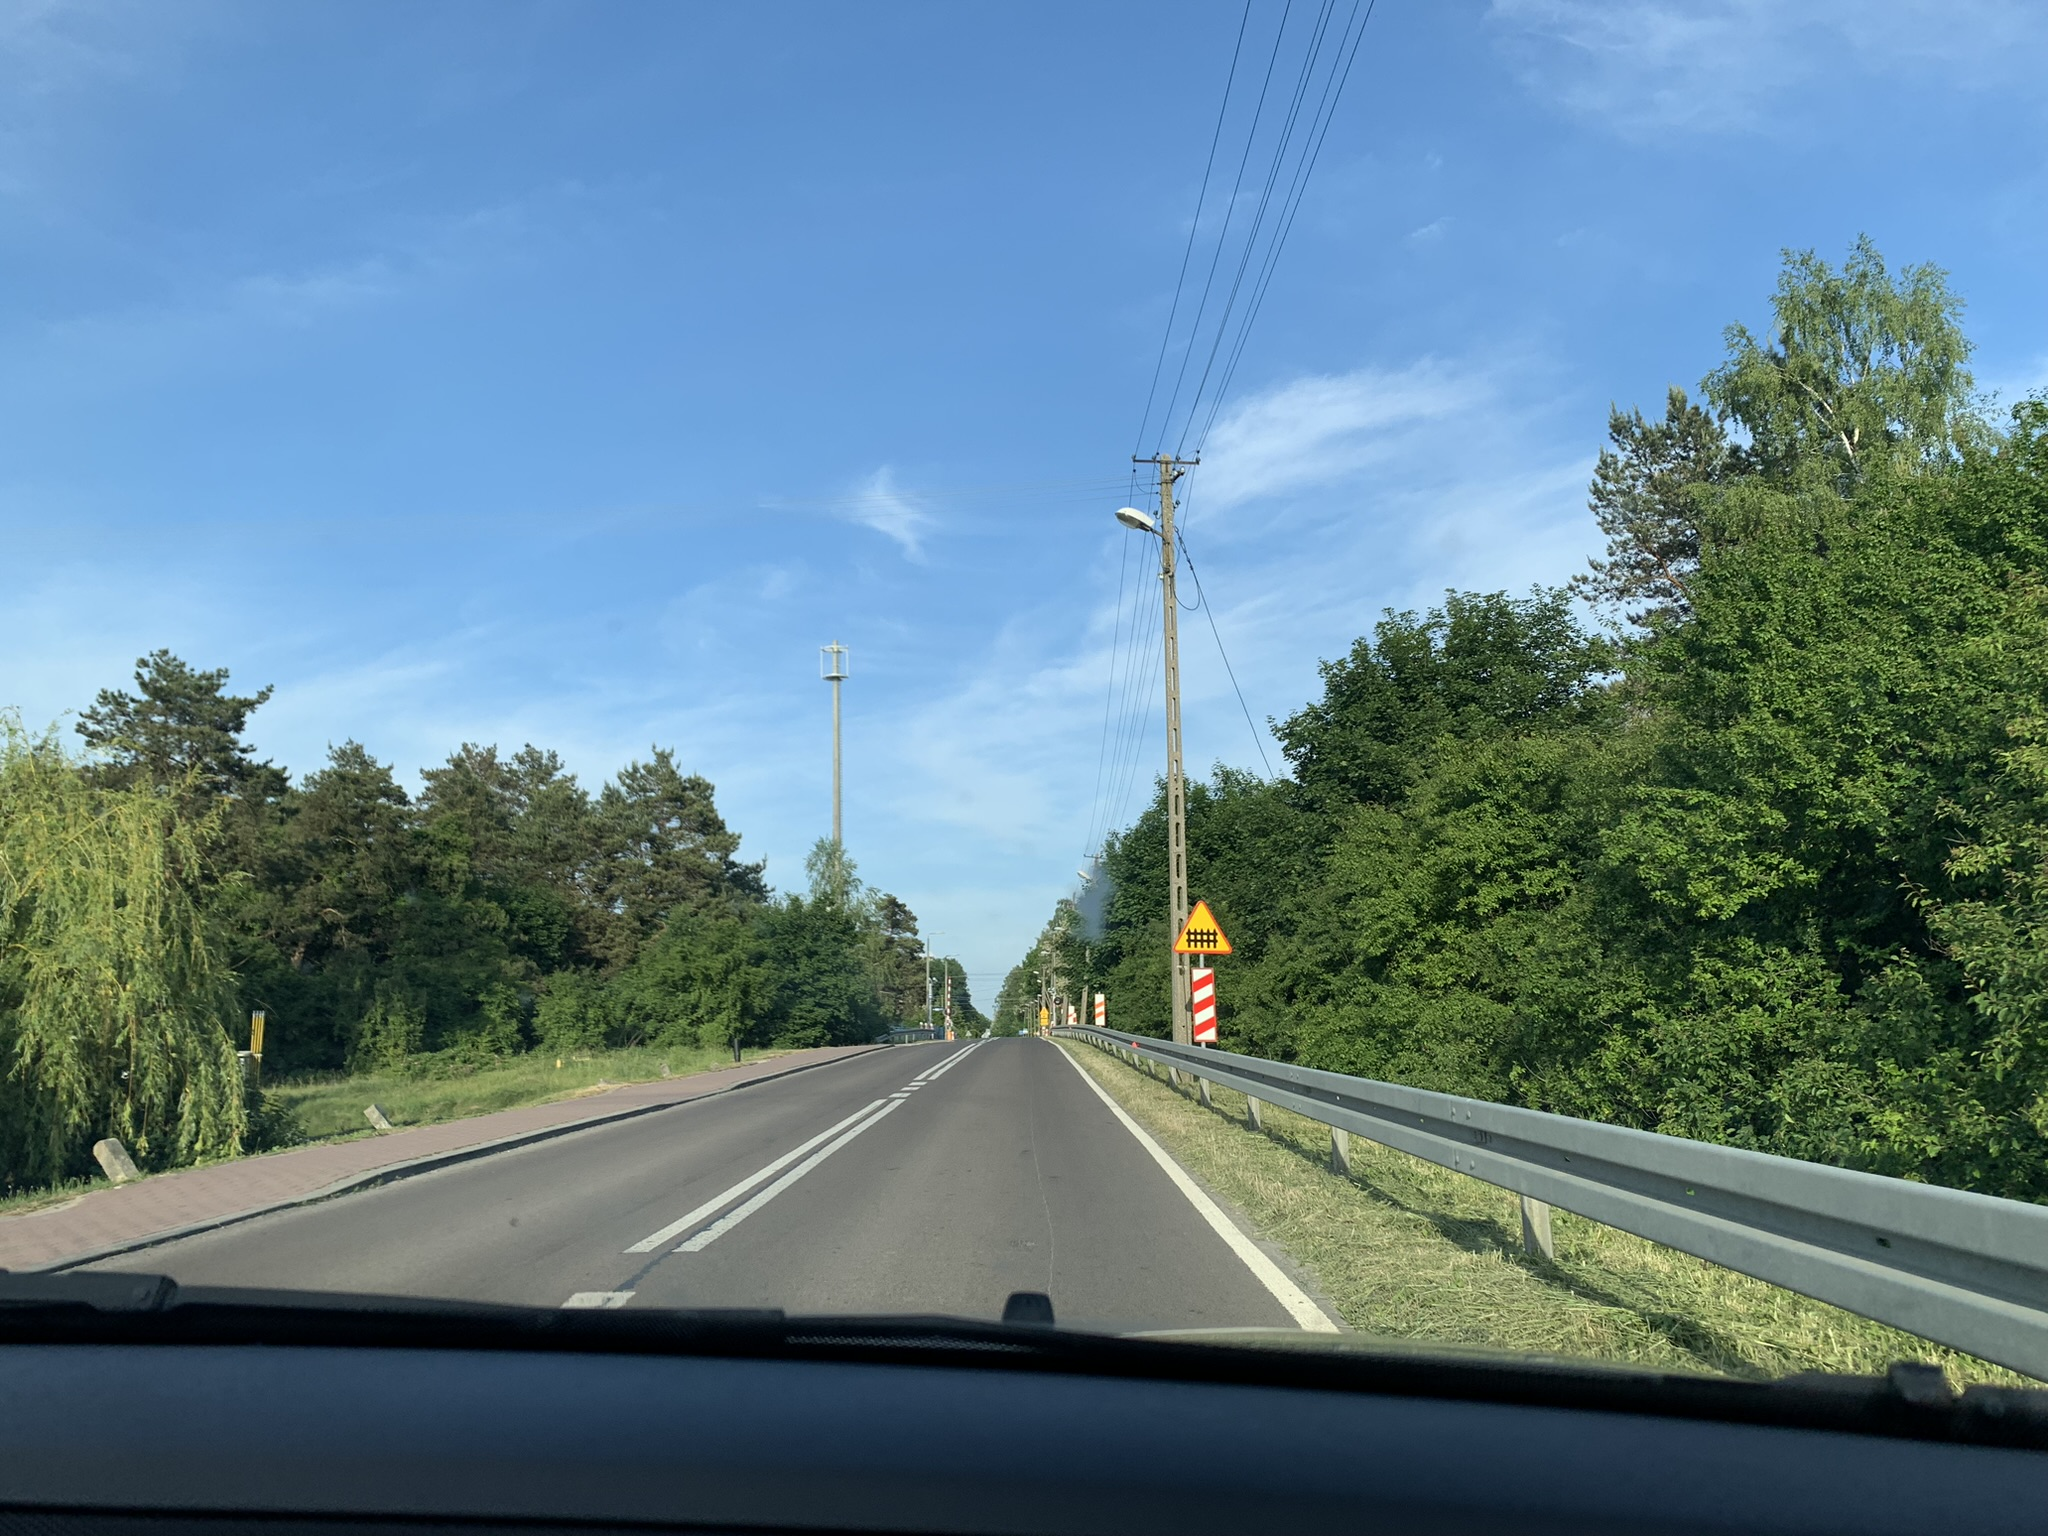a9: (1184, 925, 1222, 950)
